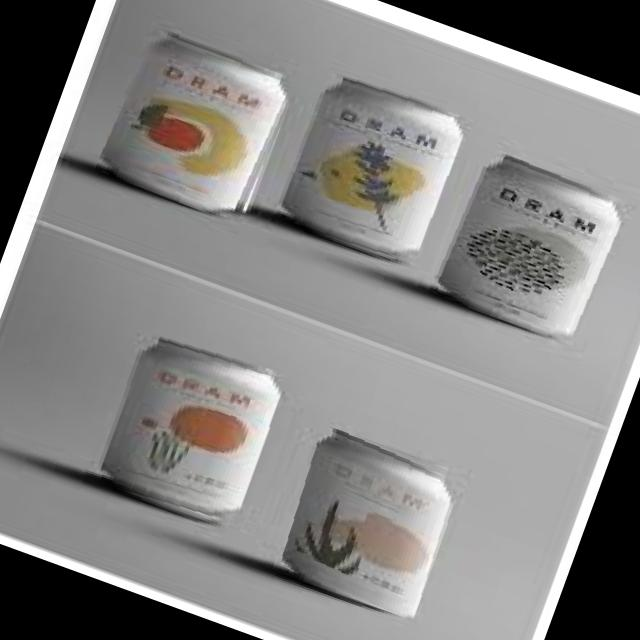Cans: (73, 315, 310, 540), (427, 139, 640, 353), (94, 14, 306, 228), (264, 64, 478, 274), (256, 412, 468, 621)
